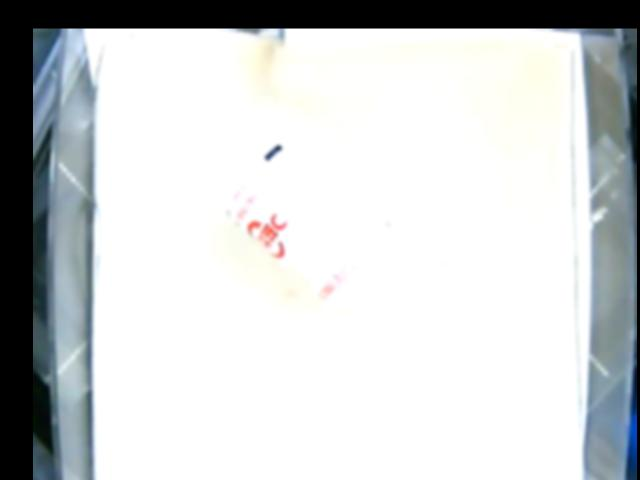Bottle: (224, 136, 420, 325)
